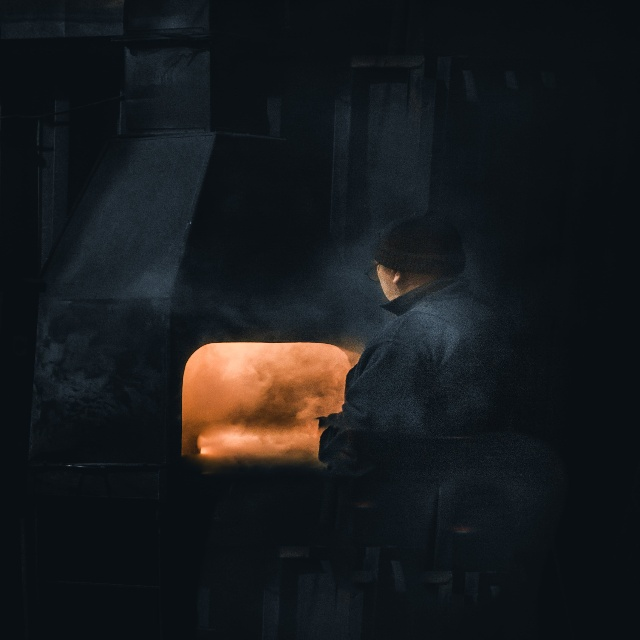Gafas: (364, 261, 381, 284)
